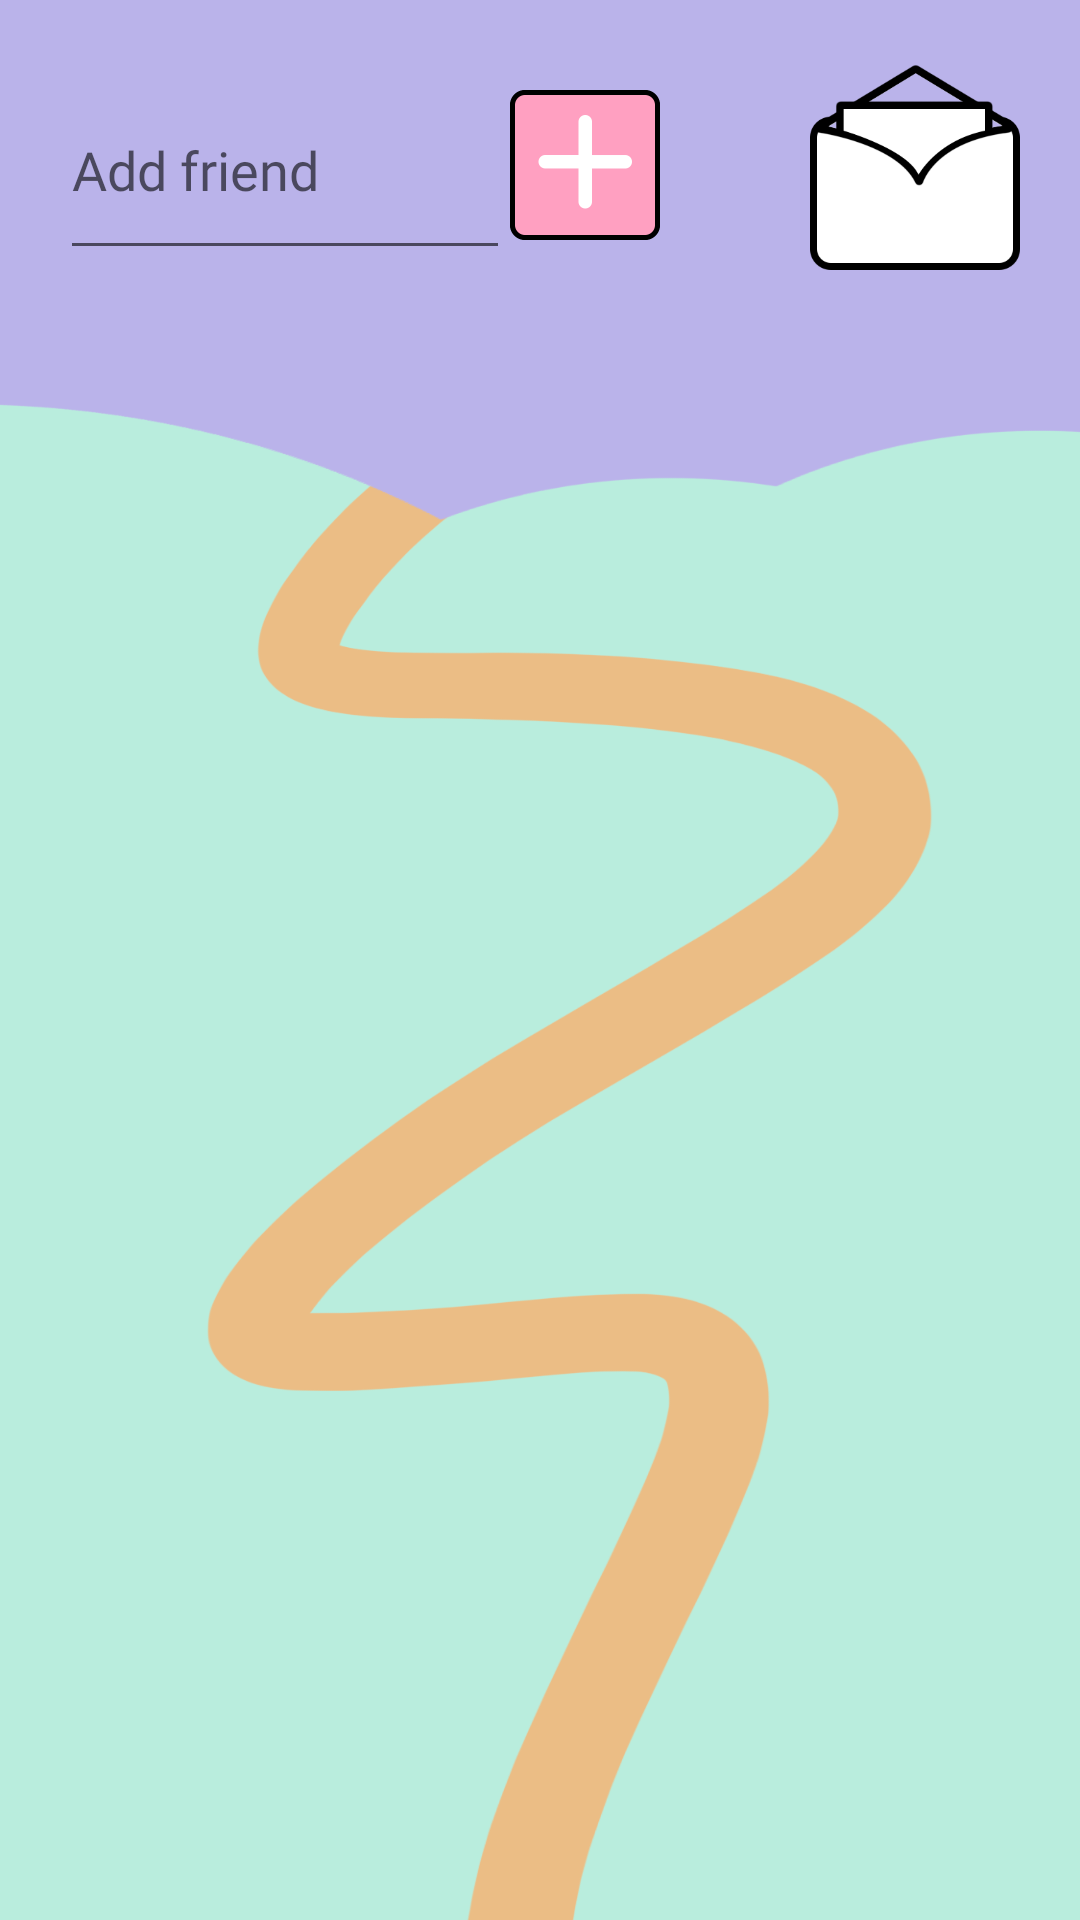

Locate icon controls on the screen. Image size 1080px×1920px, boxes as (x1, y1, x2, y2).
requests iv: (810, 65, 1020, 270)
